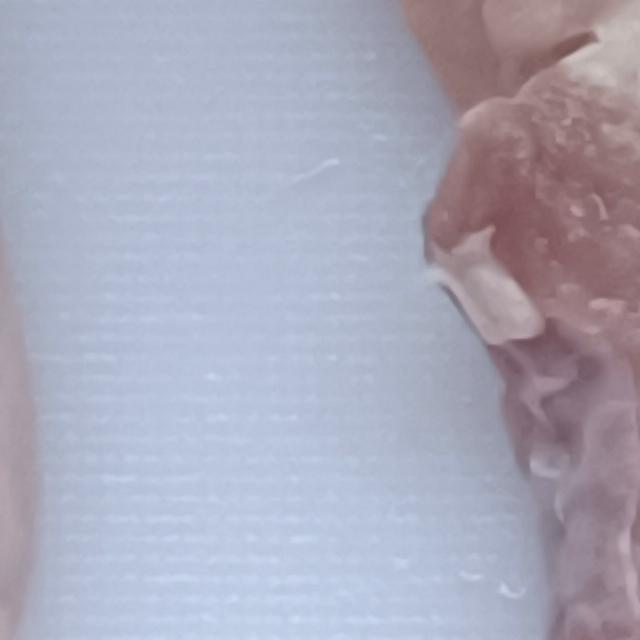pork: (276, 0, 640, 640)
